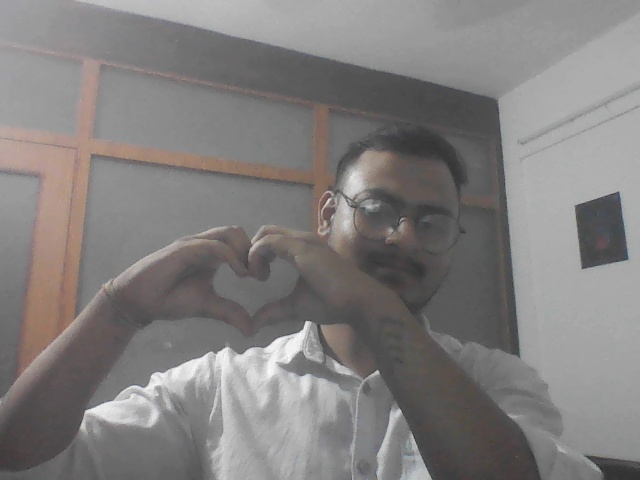Heart: (144, 220, 351, 344)
